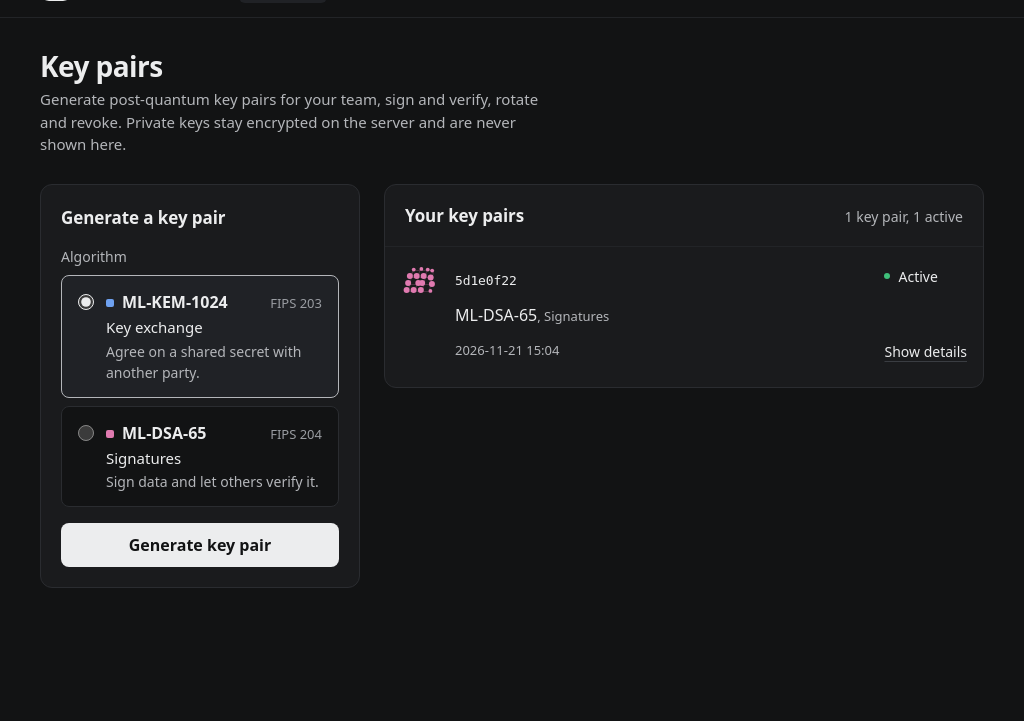
rotate and revoke › rotates with the chosen grace period and shows the replacement on top
Check: the table is shown, box [385, 246, 983, 387]
Click the button with aria-label "Show details of 5d1e0f22" at (926,351), box [884, 329, 967, 373]
(page scrolled)
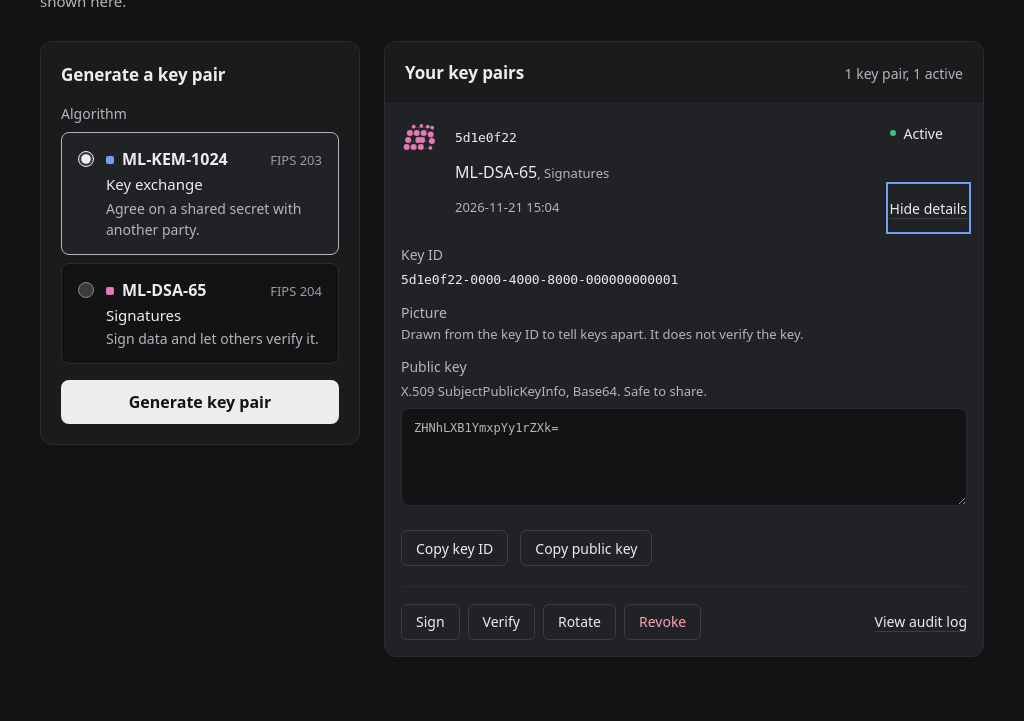
Click the button "Rotate" at (579,622), box [543, 604, 616, 640]
(page scrolled)
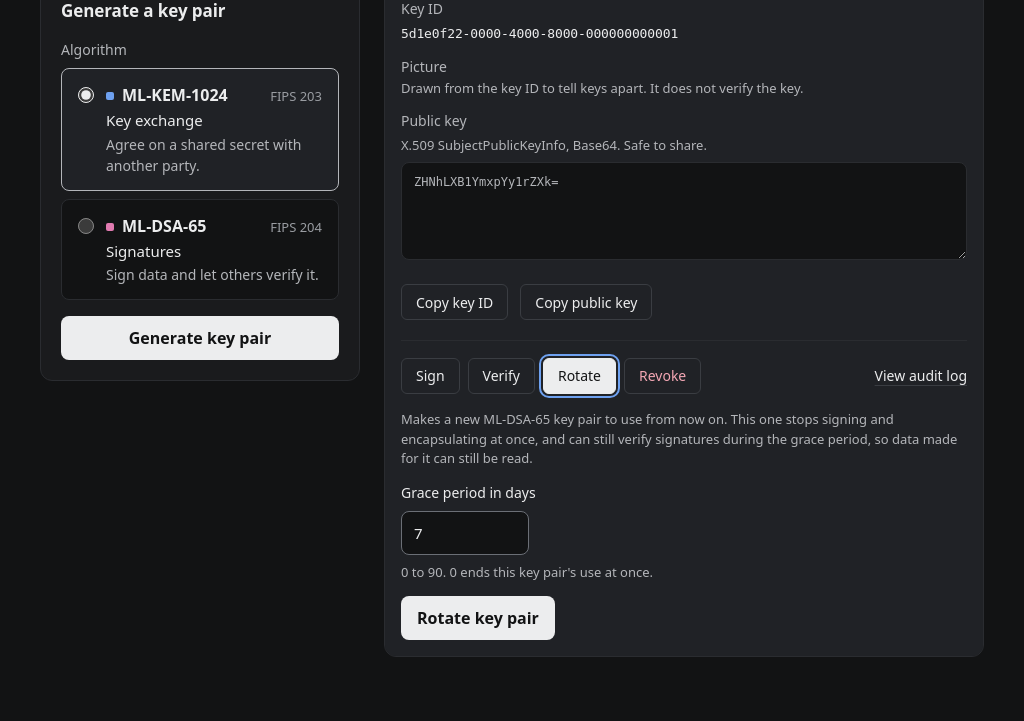
Check: the field labelled "Grace period in days" holds "7"
Replace the text in the field labelled "Grace period in days" with "1" at (465,533), box [401, 511, 529, 555]
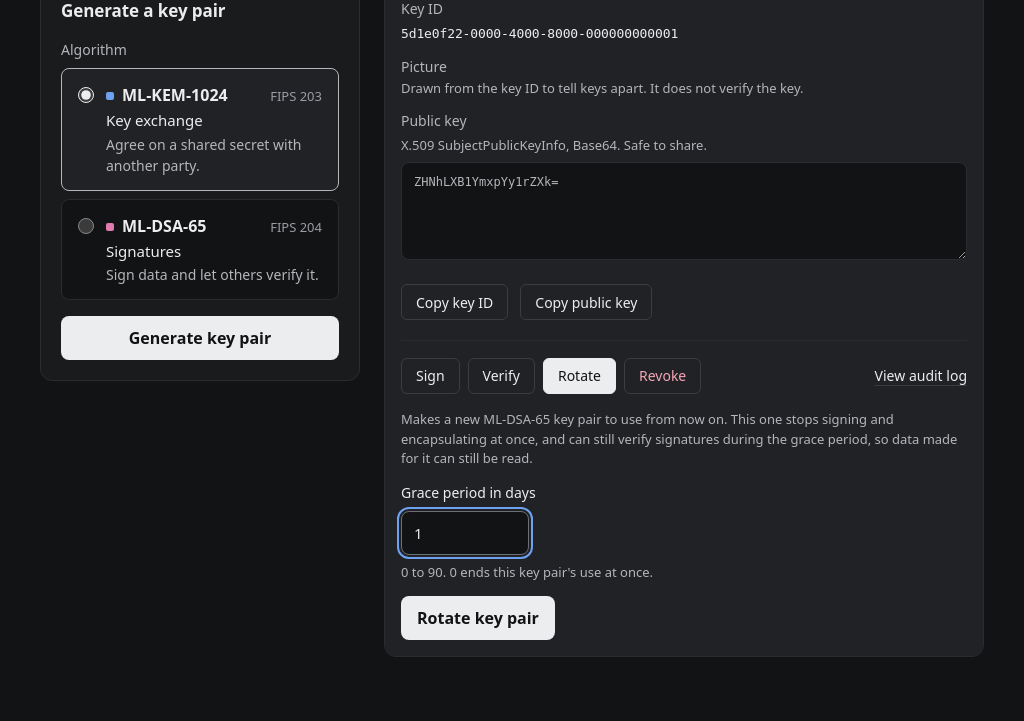
Click the button "Rotate key pair" at (478,618), box [401, 596, 555, 640]
(page scrolled)
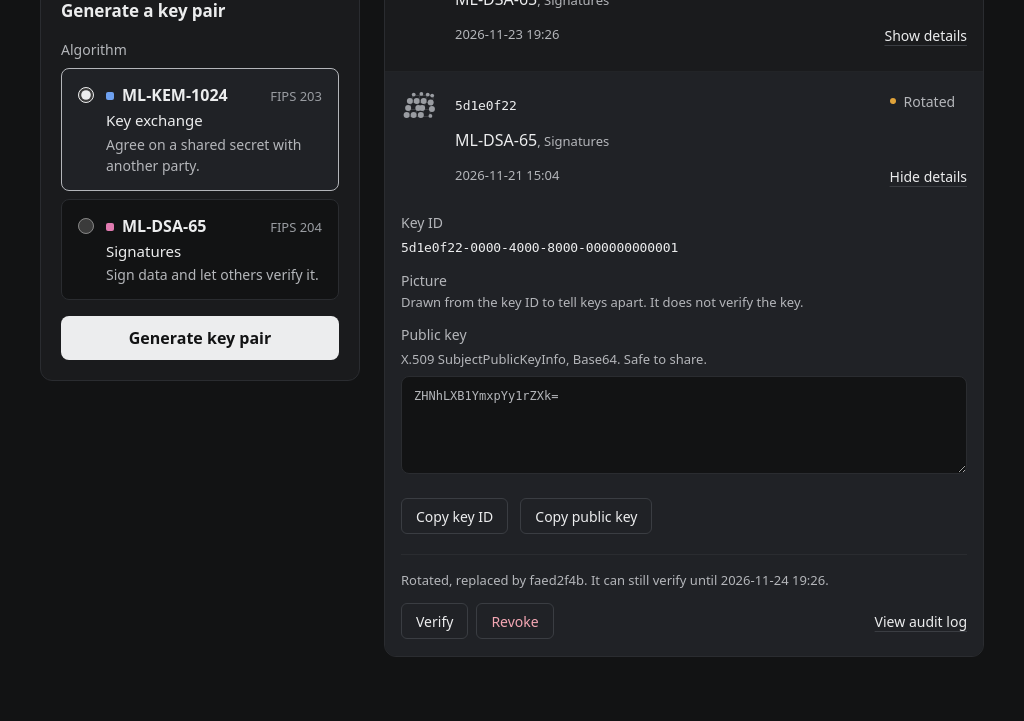
Check: the button "Verify" is shown, box [401, 603, 468, 639]
Check: the text "Rotated" is shown once, box [890, 91, 955, 112]
Check: the text "Rotated, replaced by" is shown, box [401, 571, 829, 589]
